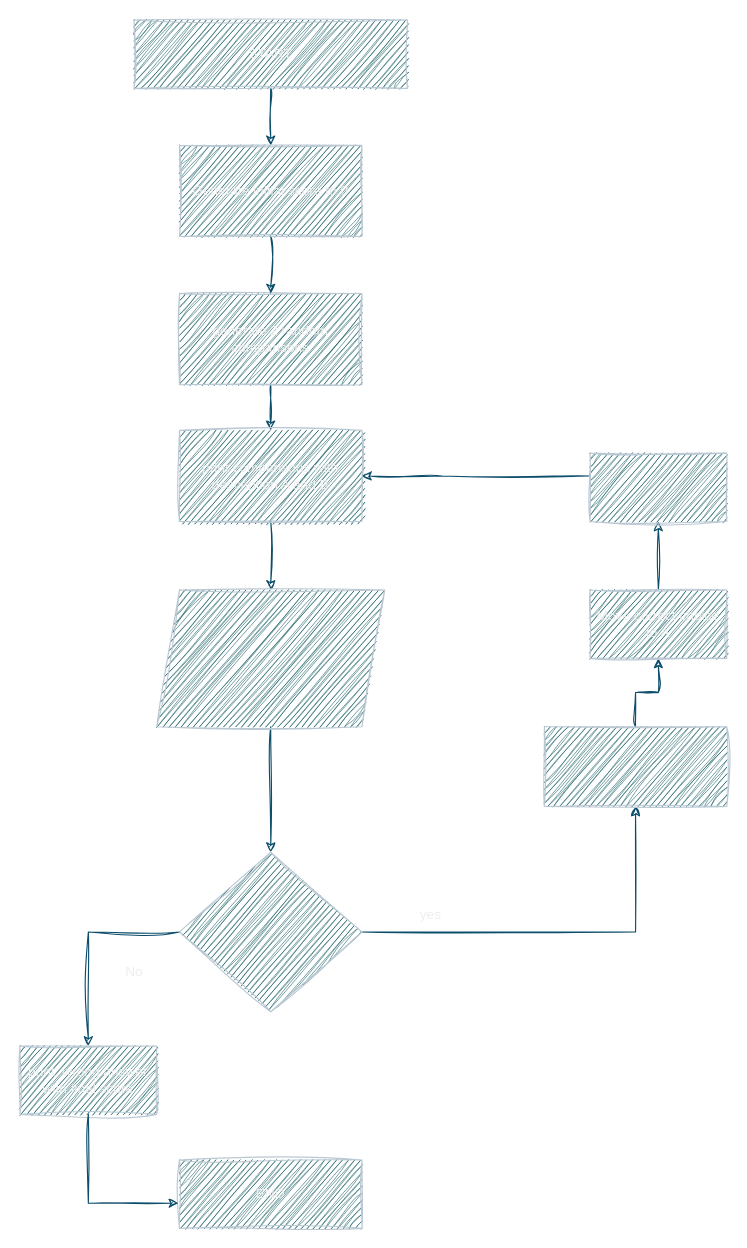
This 747x1248 diagram has some shape labels left out. The shapes that lost their labels are listed below. From the top down, each one's centre as x and y in pixels, then its label:
At pixel 658 487: "Generate a new Choice for B".
At pixel 270 658: "Advise User To choose A or B".
At pixel 635 766: "increase Score".
At pixel 270 931: "User Chooses Correctly".
